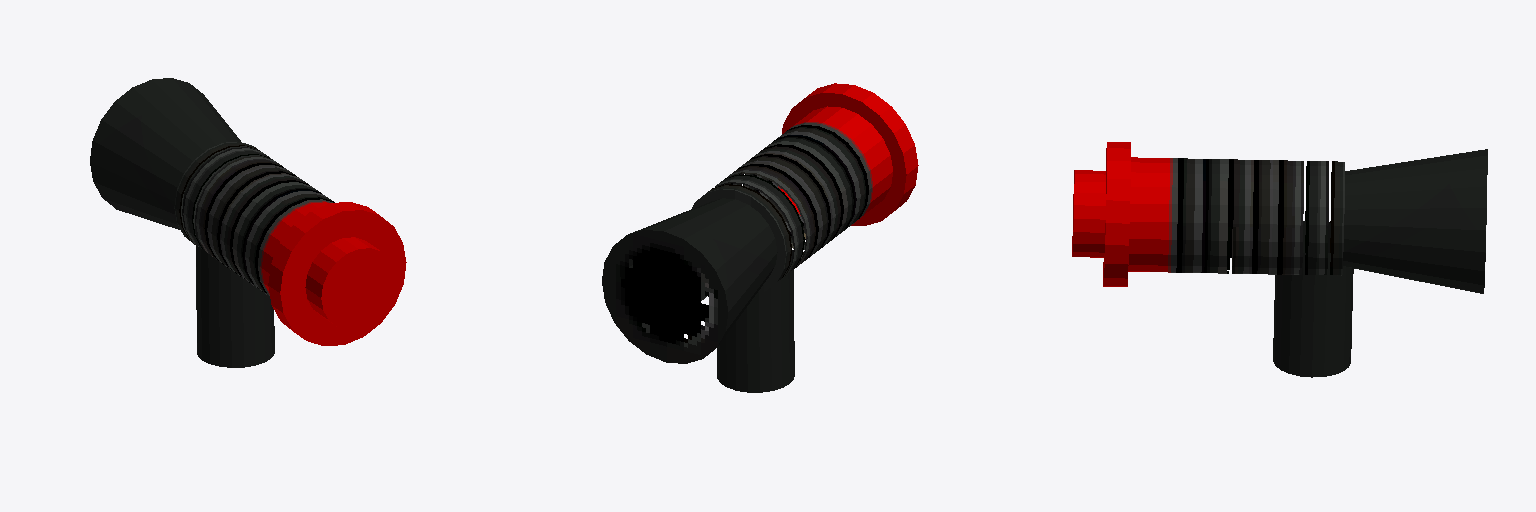
3 views of the same model, side by side, from view 1: azimuth 30°, elevation 25°; view 2: azimuth 150°, elevation 25°; view 3: azimuth 270°, elevation 25° (orthographic).
Visible parts, largest first — view 1: Mesh_0106.002_Mesh_0106Mesh.002; view 2: Mesh_0106.002_Mesh_0106Mesh.002; view 3: Mesh_0106.002_Mesh_0106Mesh.002.
Boxes of the visible parts, <box> form: Mesh_0106.002_Mesh_0106Mesh.002: <box>90,78,406,367</box>; Mesh_0106.002_Mesh_0106Mesh.002: <box>602,83,918,392</box>; Mesh_0106.002_Mesh_0106Mesh.002: <box>1072,142,1487,377</box>.
Bounding box in the file's own units: 0.0604 × 0.0982 × 0.1713.
Materials: 1 (1 with a texture image).